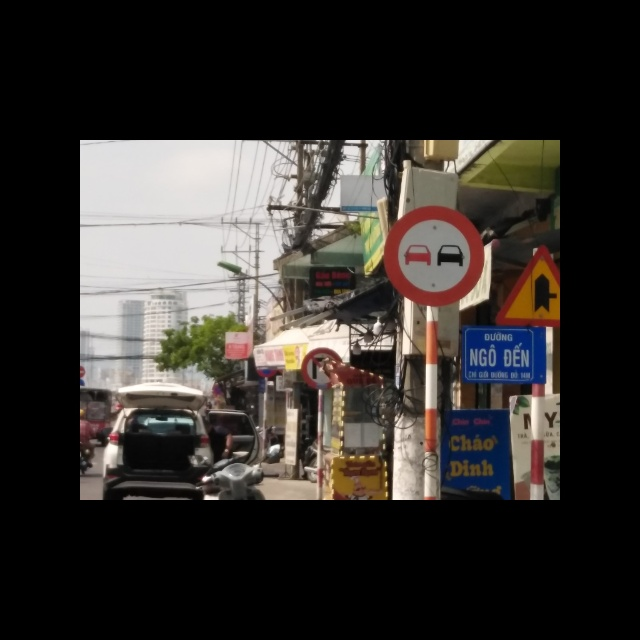Cấm vượt: (381, 204, 485, 307)
Giao nhau với đường không ưu tiên: (494, 242, 560, 328)
